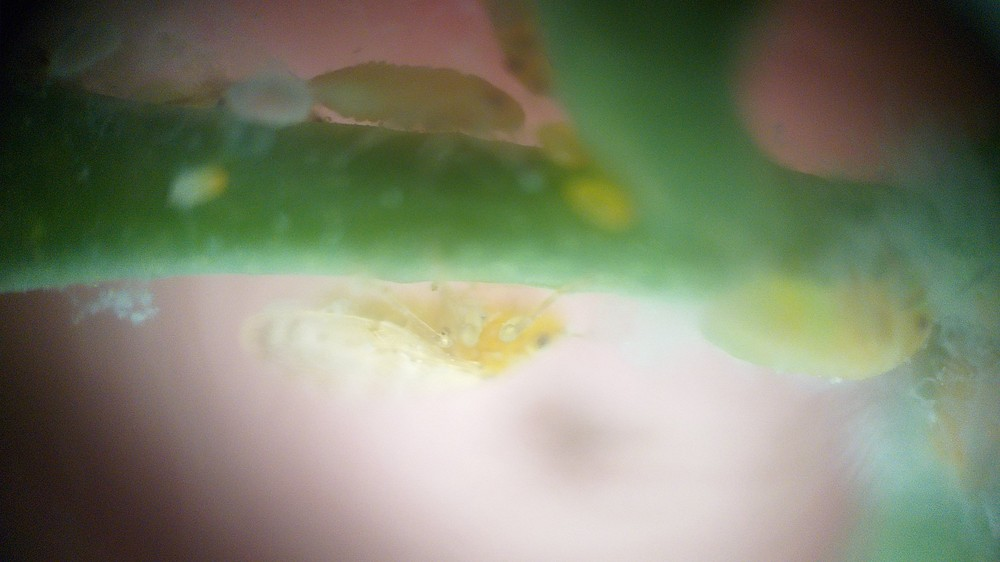Mosca Blanca: (230, 237, 607, 447)
